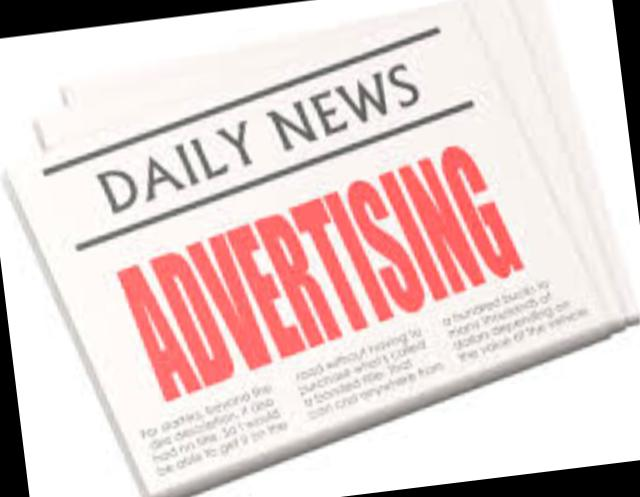cardboard paper: (3, 0, 630, 497)
